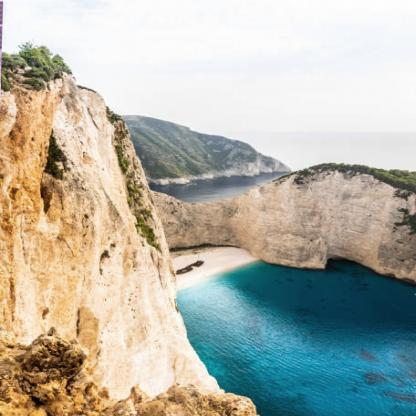Sedimentary_Sandstone: (9, 101, 132, 359)
